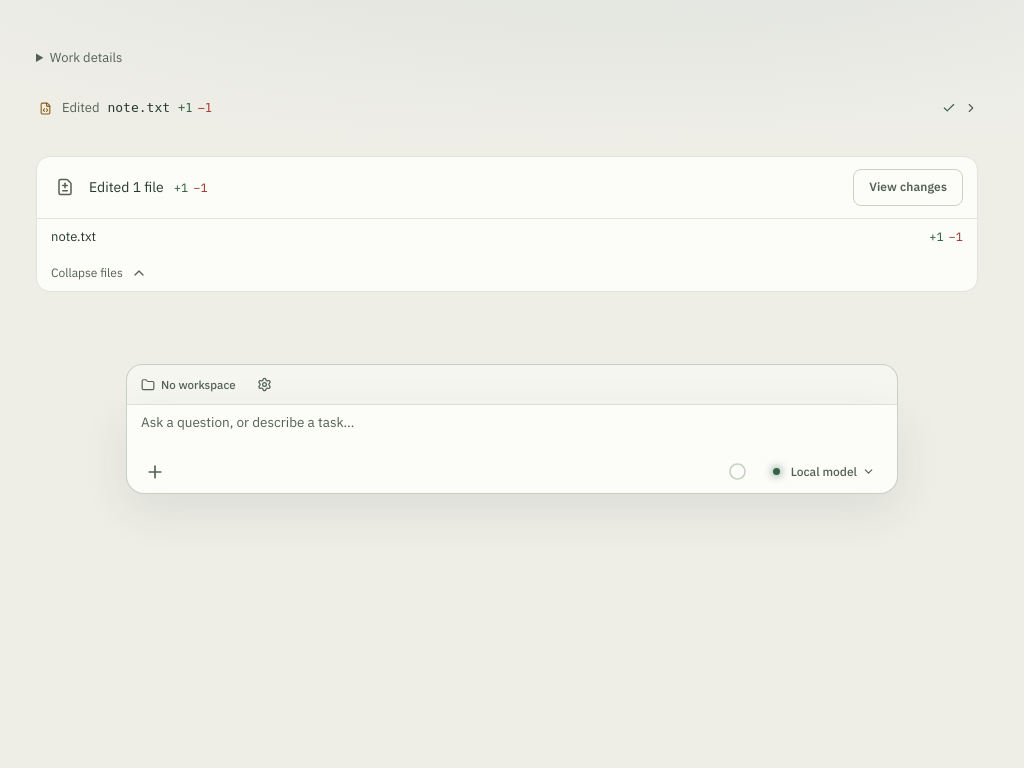
Test: chat action reporting and submission › shows a reviewable unified diff for workspace edits
Click the 1st text "note.txt" at (139, 108), box [107, 100, 170, 115]
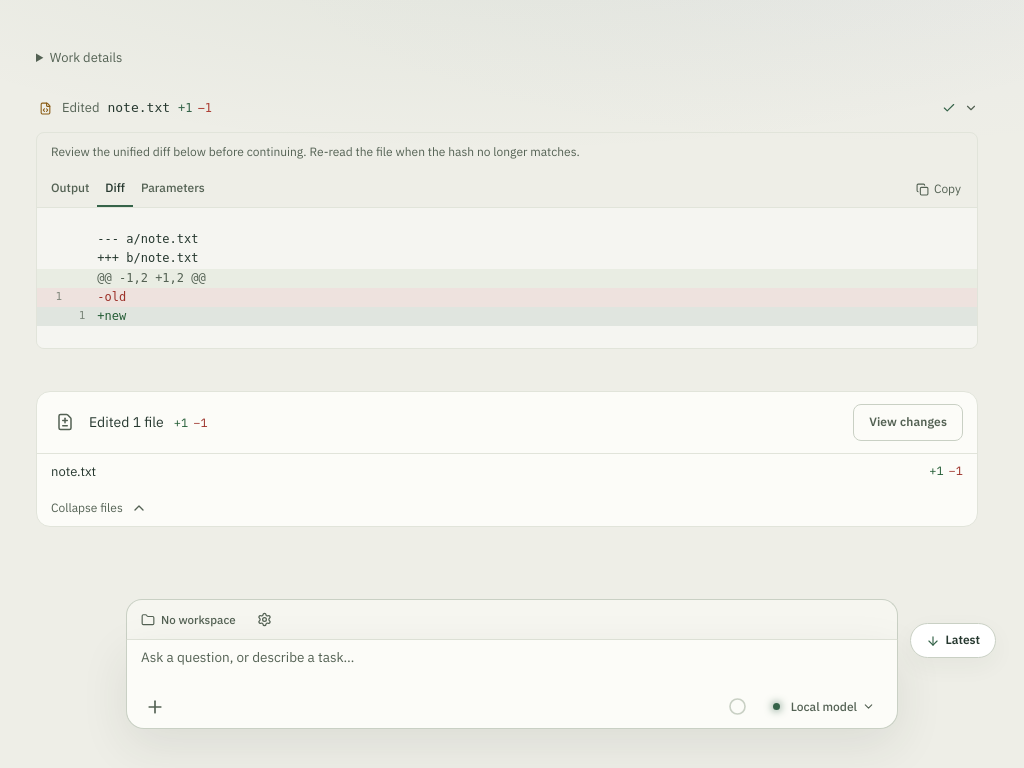
Expected: the button "Diff" is shown, [97, 171, 133, 207]
Expected: the text "--- a/note.txt" is shown, [97, 232, 198, 246]
